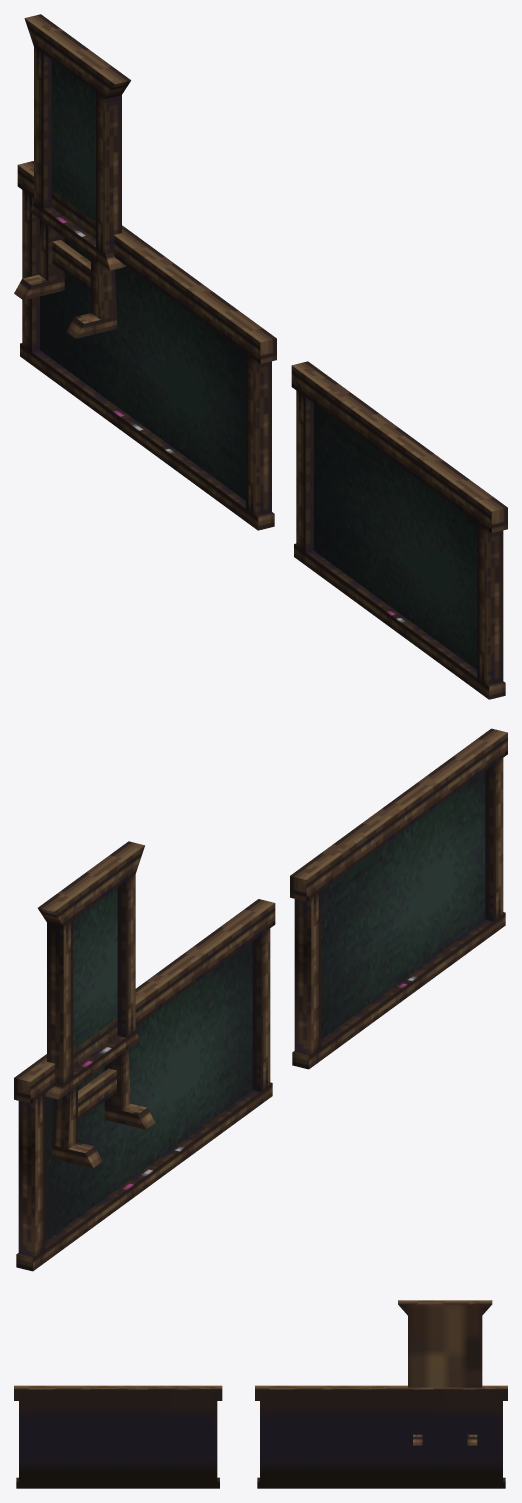
The model's file is ObjTX_School_Blackboard_cl.FBX.
3 views of the same model, one above another, from view 1: azimuth 30°, elevation 25°; view 2: azimuth 150°, elevation 25°; view 3: azimuth 270°, elevation 25° (orthographic). The views are drawn at different scales.
Visible parts, largest first — view 1: ObjMD_School_Blackboard_A, ObjMD_School_Blackboard_C, ObjMD_School_Blackboard_B; view 2: ObjMD_School_Blackboard_A, ObjMD_School_Blackboard_C, ObjMD_School_Blackboard_B; view 3: ObjMD_School_Blackboard_A, ObjMD_School_Blackboard_C, ObjMD_School_Blackboard_B.
Part boxes in pixels (x1=…): ObjMD_School_Blackboard_A: x1=17, y1=161, x2=276, y2=530; ObjMD_School_Blackboard_C: x1=291, y1=361, x2=507, y2=699; ObjMD_School_Blackboard_B: x1=14, y1=14, x2=130, y2=338; ObjMD_School_Blackboard_A: x1=14, y1=899, x2=275, y2=1271; ObjMD_School_Blackboard_C: x1=290, y1=728, x2=507, y2=1069; ObjMD_School_Blackboard_B: x1=38, y1=841, x2=155, y2=1168; ObjMD_School_Blackboard_A: x1=255, y1=1385, x2=507, y2=1488; ObjMD_School_Blackboard_C: x1=14, y1=1385, x2=222, y2=1488; ObjMD_School_Blackboard_B: x1=398, y1=1300, x2=492, y2=1445.
Bounding box in the file's own units: 100 × 506 × 1244.
